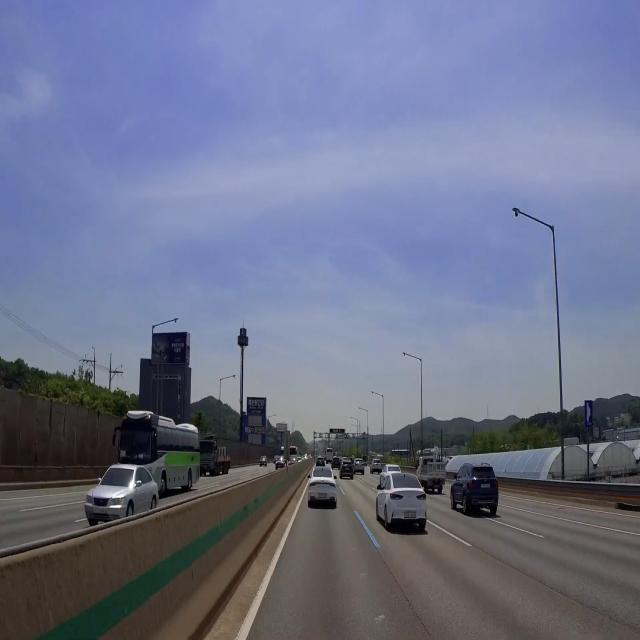car: (90, 502, 110, 521), (404, 508, 420, 525), (316, 491, 330, 505), (479, 479, 497, 489)
